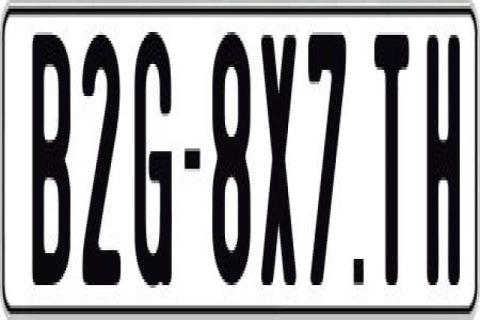0: (210, 26, 255, 294), (82, 29, 126, 288), (307, 35, 351, 288)
B: (32, 29, 72, 297)
G: (134, 26, 177, 291)
H: (424, 29, 460, 294)
T: (372, 27, 412, 280)
X: (260, 35, 298, 299)
